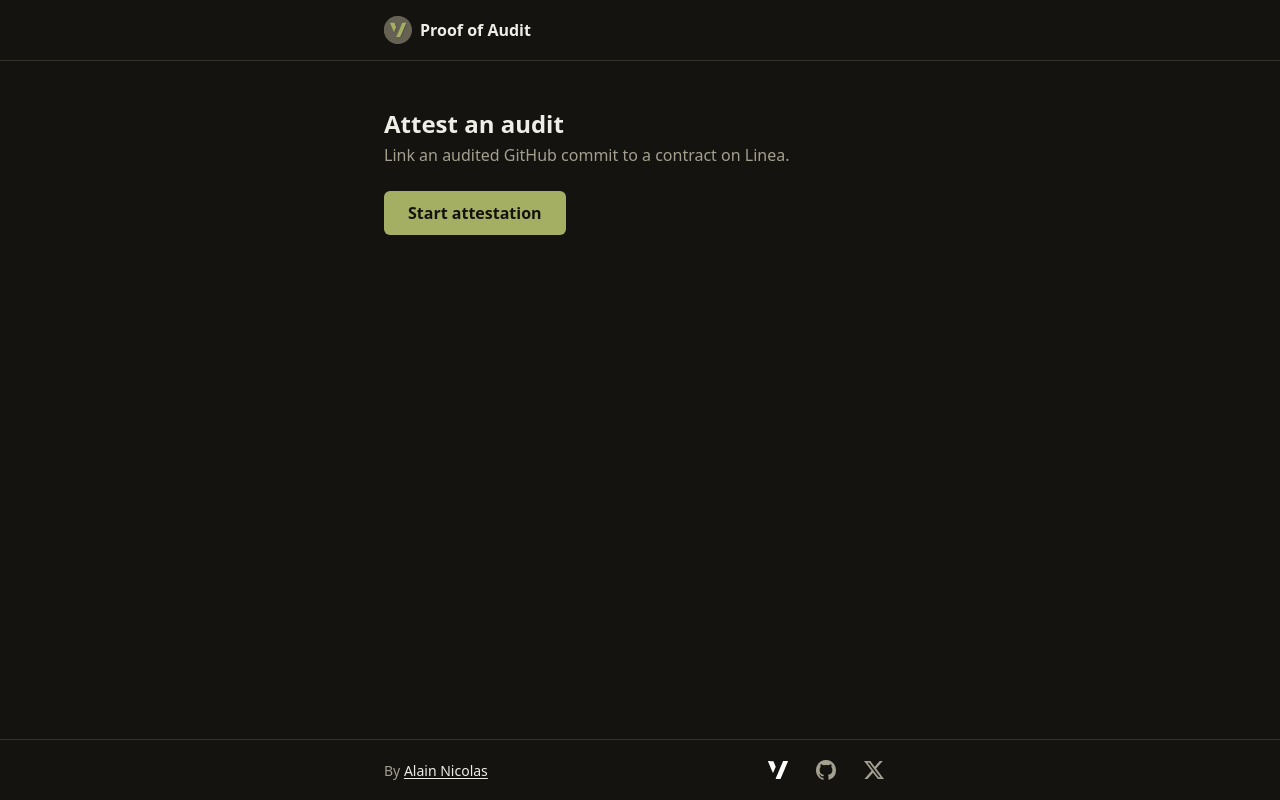
Test: App wallet loading › shows a missing-configuration error without blanking the page
Click the button "Start attestation". click: (475, 213)
box: [384,191,566,235]
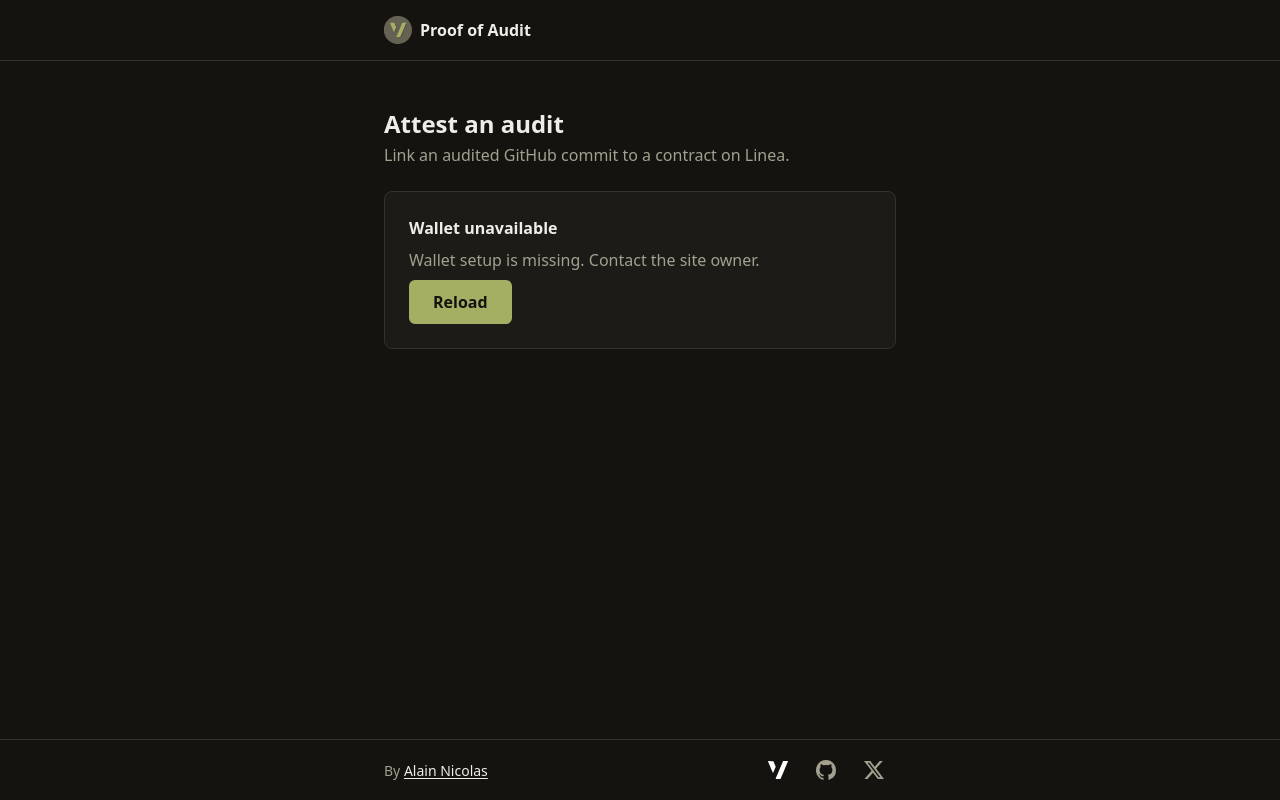
expect the message does not show "VITE_WALLETCONNECT_PROJECT_ID": met, box [384,191,896,349]
expect the message shows "Wallet setup is missing.": met, box [409,249,760,271]
